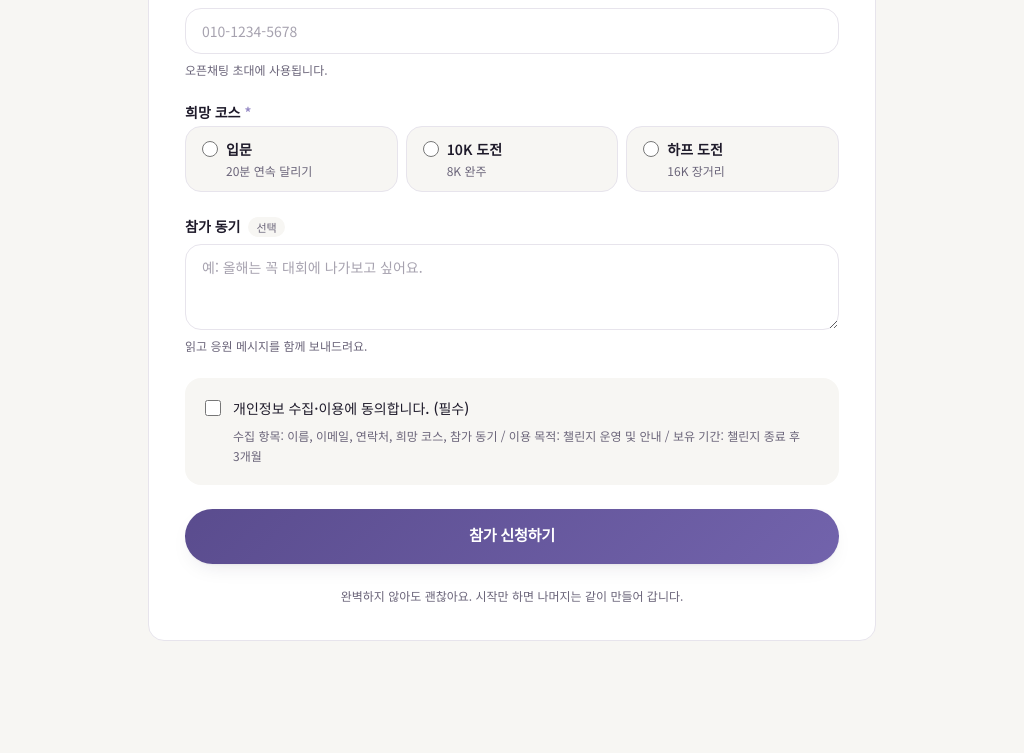
Test case: SignupForm — 직접 입력 폼 모드 › 빈 폼을 제출하면 필수 항목 에러가 화면에 노출된다
(page scrolled)
Click the button "참가 신청하기" at x=512, y=536, box [185,509,839,564]
(page scrolled)
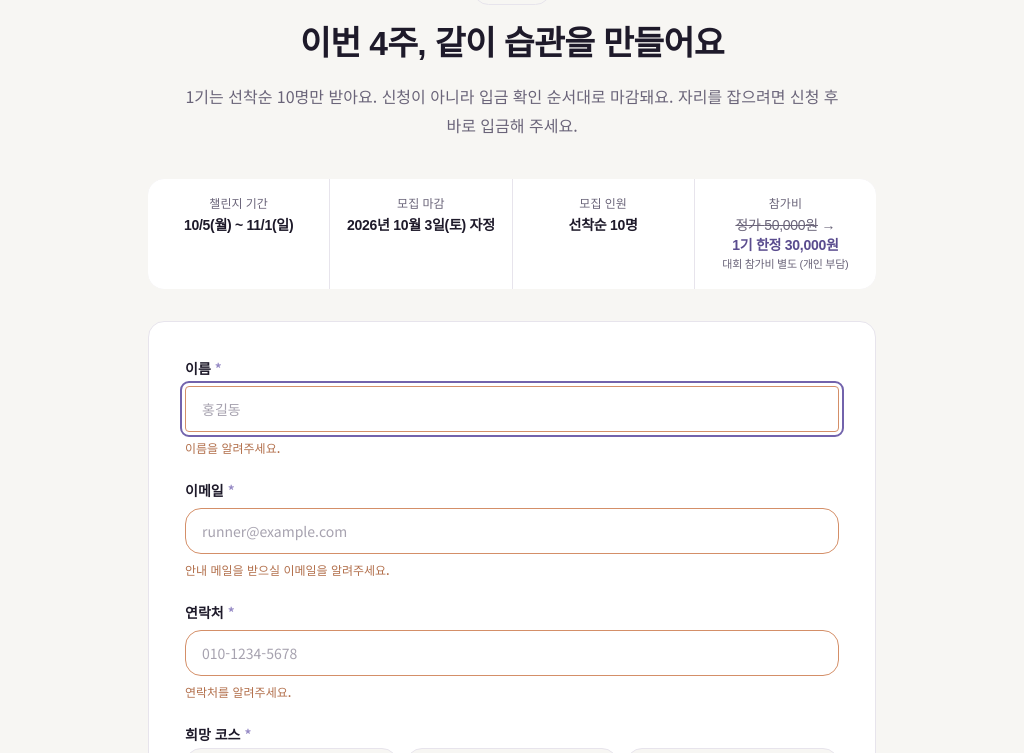
Expected: the number of messages is 5
Expected: the text "이름을 알려주세요." is shown, [185,439,280,456]
Expected: the text "연락처를 알려주세요." is shown, [185,683,291,700]
